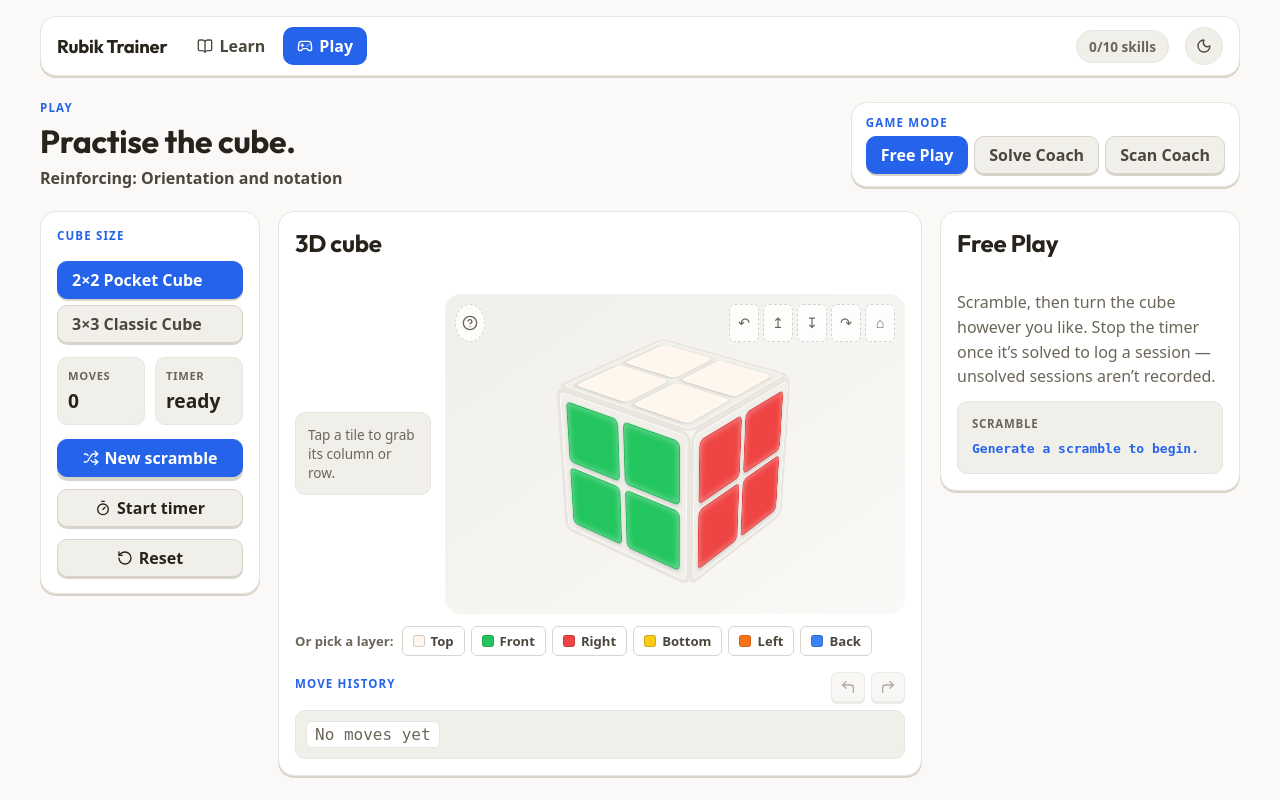
Test case: Play page — modes on the URL, honest scoring › mode picker navigates via the URL and keeps ?skill=
Expected: the text "Reinforcing: Orientation and notation" is shown, left=40, top=167, right=342, bottom=189
Click the button "Solve Coach" at (1037, 155), box left=974, top=136, right=1099, bottom=174
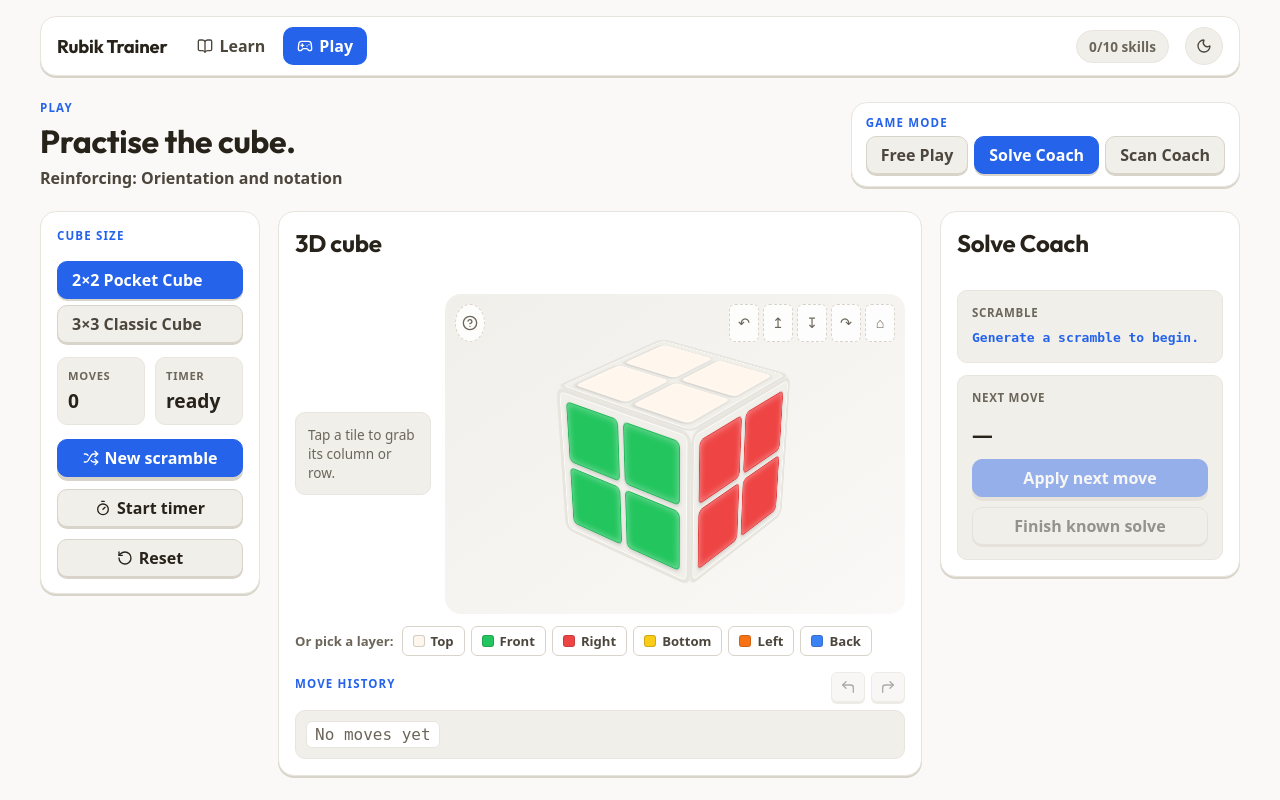
Expected: the text "Reinforcing: Orientation and notation" is shown, left=40, top=167, right=342, bottom=189
Now the heading "Solve Coach" is shown, box left=957, top=228, right=1089, bottom=258
